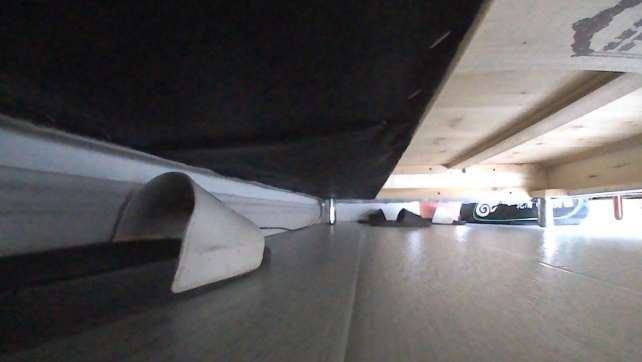slipper: (0, 168, 275, 347), (355, 207, 433, 231)
wire: (260, 198, 325, 235)
